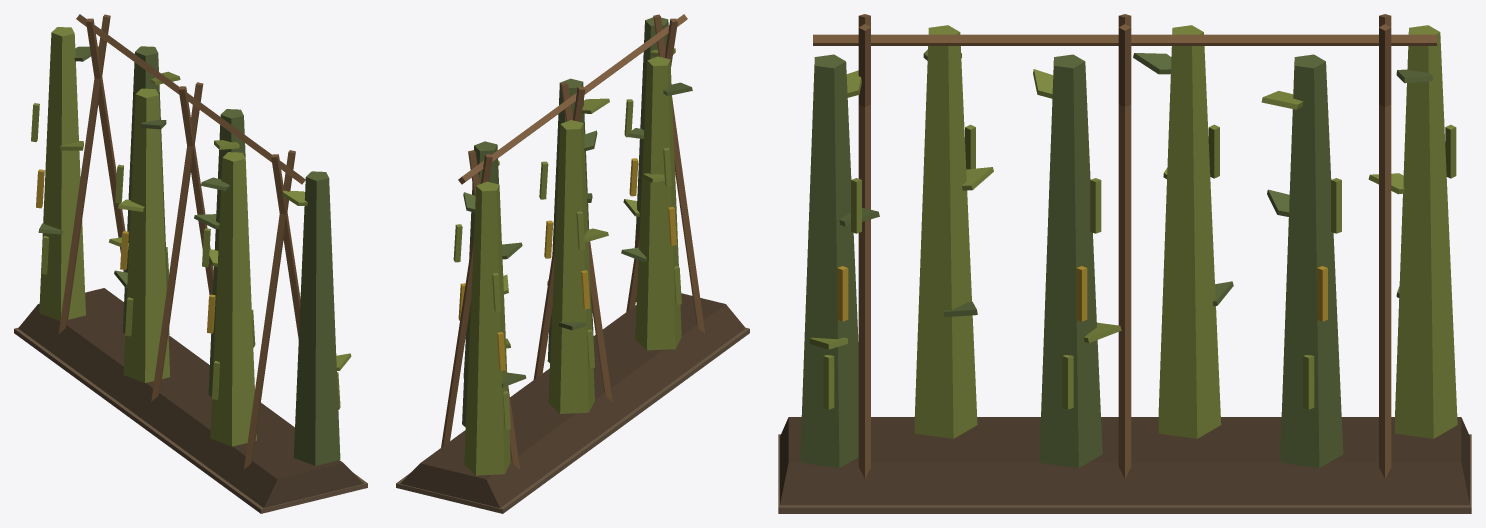
The model's file is crop_beans_s3.glb.
3 views of the same model, side by side, from view 1: azimuth 30°, elevation 25°; view 2: azimuth 150°, elevation 25°; view 3: azimuth 270°, elevation 25° (orthographic). The views are drawn at different scales.
Parts seen in each view (by area): view 1: crop_beans_s3_mesh; view 2: crop_beans_s3_mesh; view 3: crop_beans_s3_mesh.
Part boxes in pixels (<box>): crop_beans_s3_mesh: <box>14,14,367,513</box>; crop_beans_s3_mesh: <box>396,14,749,513</box>; crop_beans_s3_mesh: <box>778,14,1471,513</box>.
Bounding box in the file's own units: 0.5143 × 1.46 × 2.
